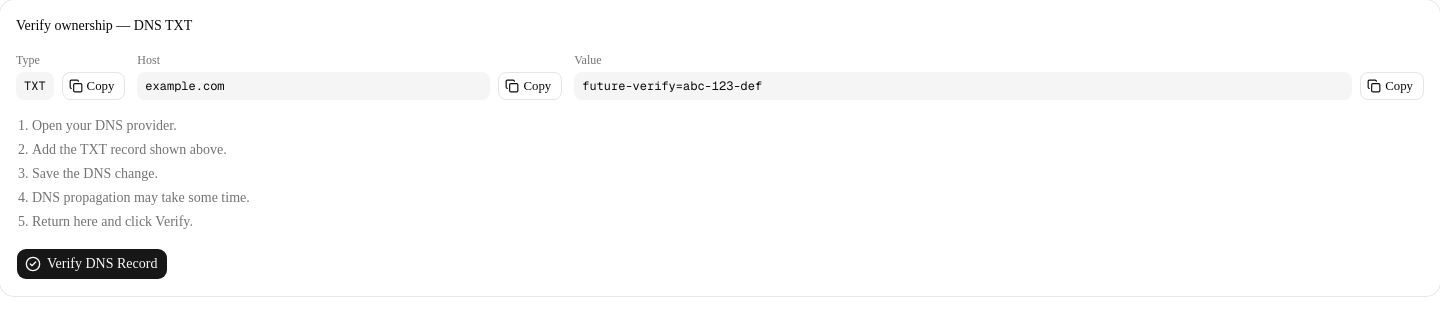
VerificationPanel — DNS TXT › shows a loading state and disables the button while a check is in flight
What coordinates should you click on to do the following:
click the button "Verify DNS Record"
I would click on:
 (92, 264)
Its box is [16,248,168,280].
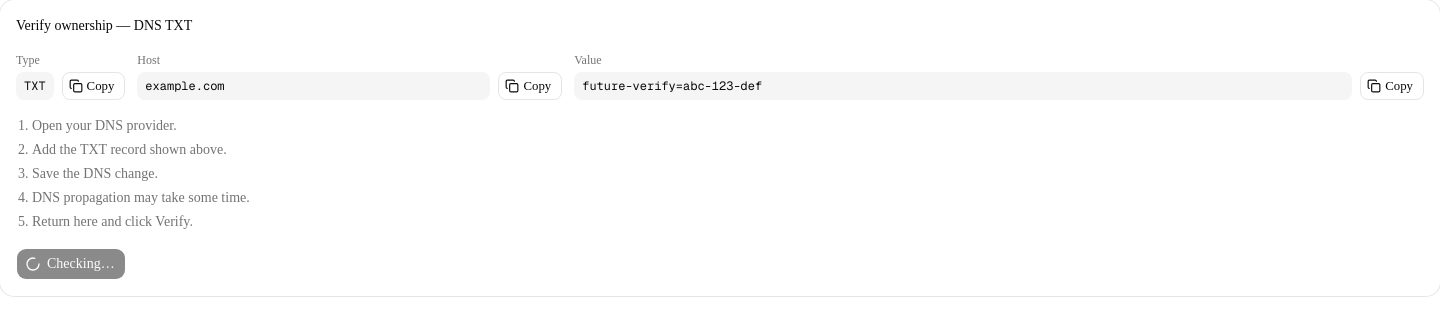
Now the button "Checking…" is disabled, box [16,248,126,280]
